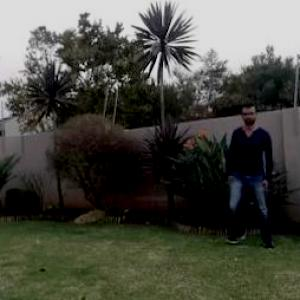follow: (226, 91, 272, 252)
